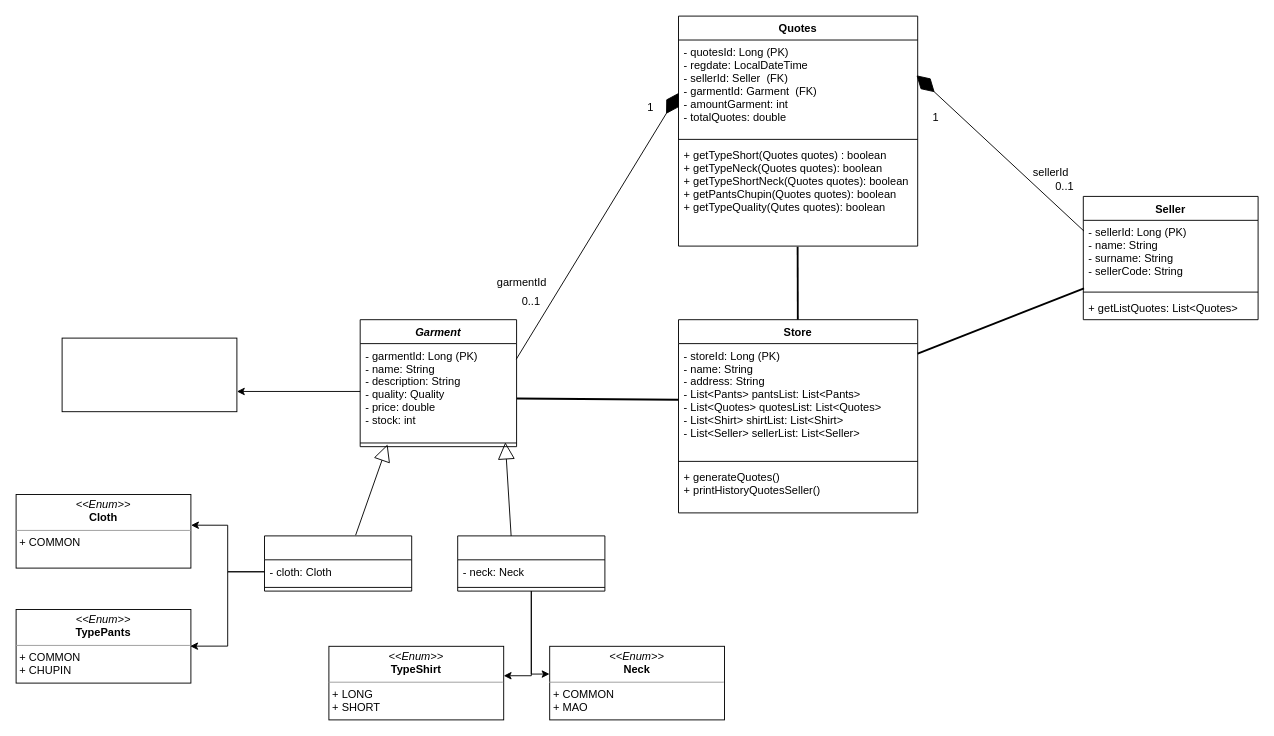
This 1274x736 diagram has some shape labels left out. The box of each missing label's shape, as (x1, y1, x2, y2) in pixels:
<<Enum>> Quality + STANDARD + PREMIUM: (61, 337, 237, 412)
Pants: (264, 535, 412, 591)
Shirt: (457, 535, 605, 591)
